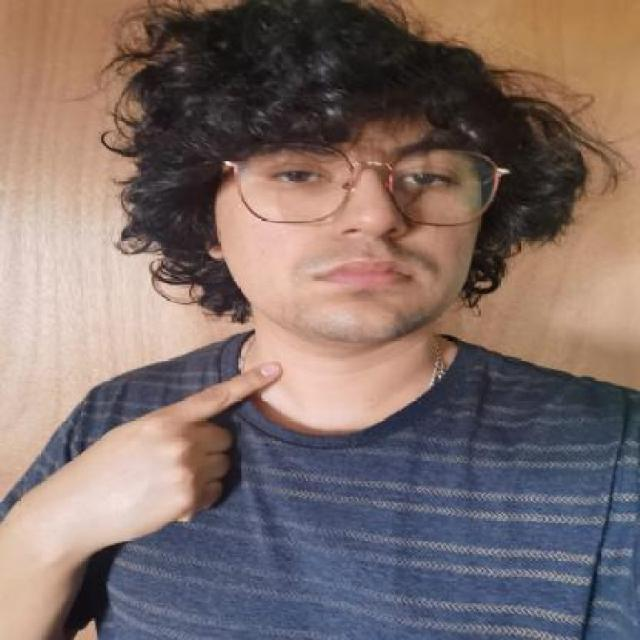Q: (59, 356, 286, 536)
